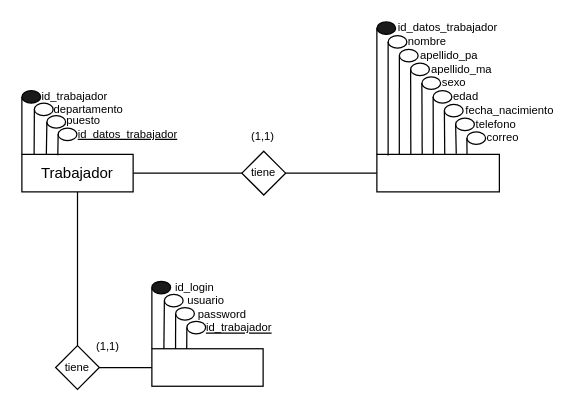
The diagram is 578 pixels wide and 411 high, and some of its shapes have lost their labels. The box of each missing label's shape, as (x1, y1, x2, y2) in pixels:
Datos_trabajador: (376, 153, 499, 192)
Login: (151, 348, 263, 386)
